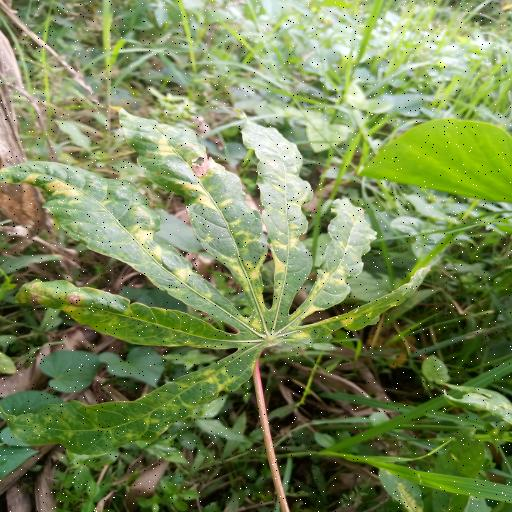Cassava_Mosaic: (5, 107, 376, 452)
